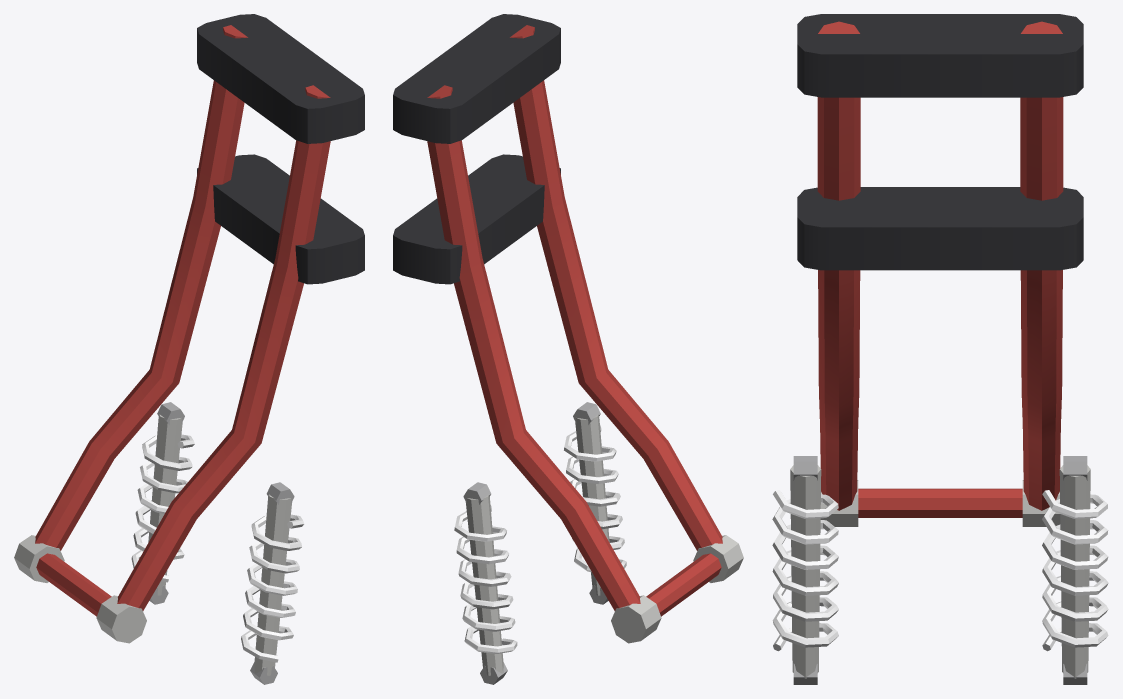
File: classic_earles_upper_lod1.glb
3 views of the same model, side by side, from view 1: azimuth 30°, elevation 25°; view 2: azimuth 150°, elevation 25°; view 3: azimuth 270°, elevation 25° (orthographic). The views are drawn at different scales.
Visible parts, largest first — view 1: classic_earles_upper_lod1; view 2: classic_earles_upper_lod1; view 3: classic_earles_upper_lod1.
Part boxes in pixels (x1,y1,x2,y2): classic_earles_upper_lod1: [14, 14, 364, 684]; classic_earles_upper_lod1: [393, 14, 743, 684]; classic_earles_upper_lod1: [772, 14, 1108, 684].
Size of the model in its own units: 0.3 by 0.6429 by 0.282.
